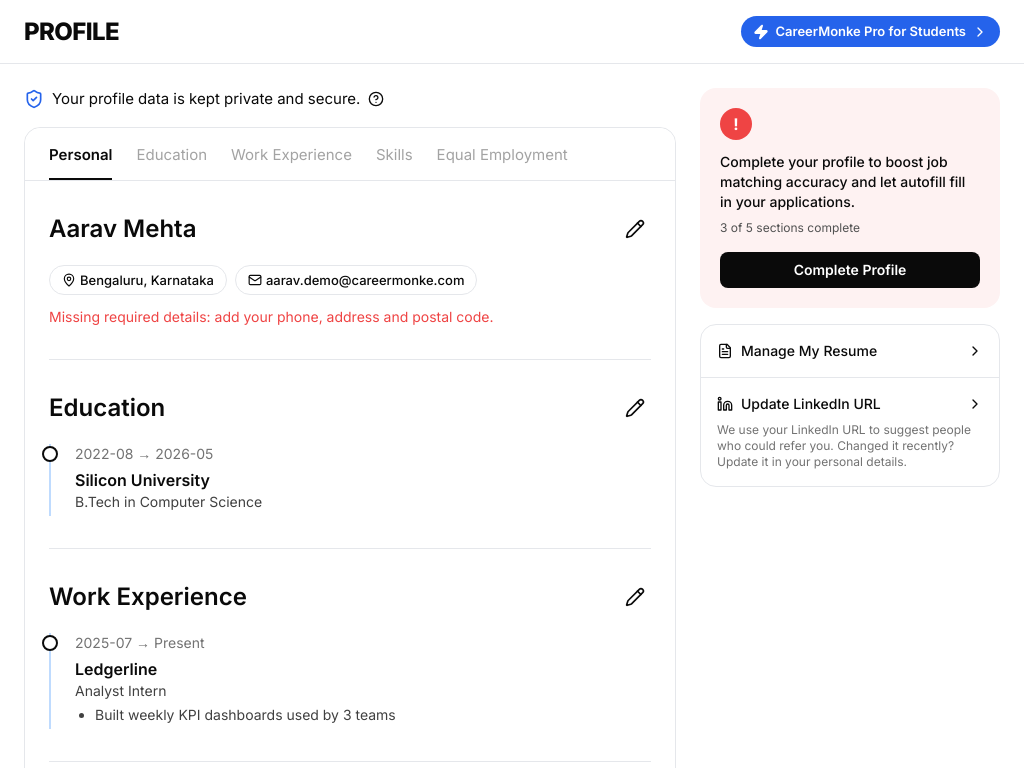
Profile › closing without changes does not ask
Click the button named "Edit Education" at (635, 408), box x1=619 y1=392 x2=651 y2=424
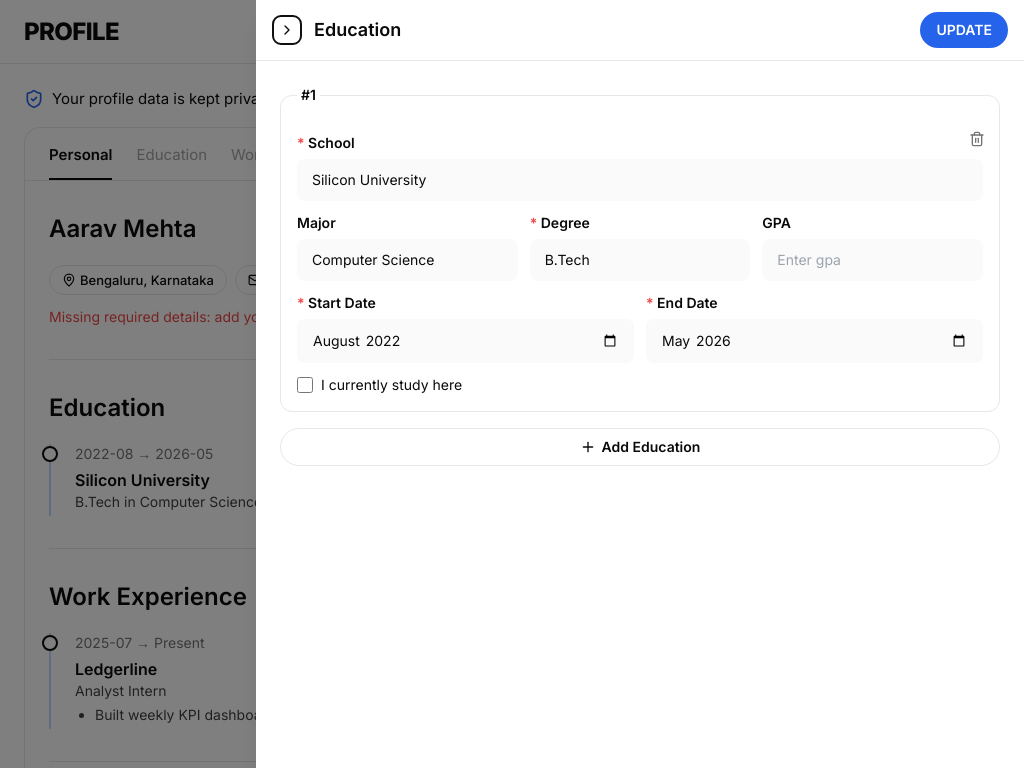
Press Escape
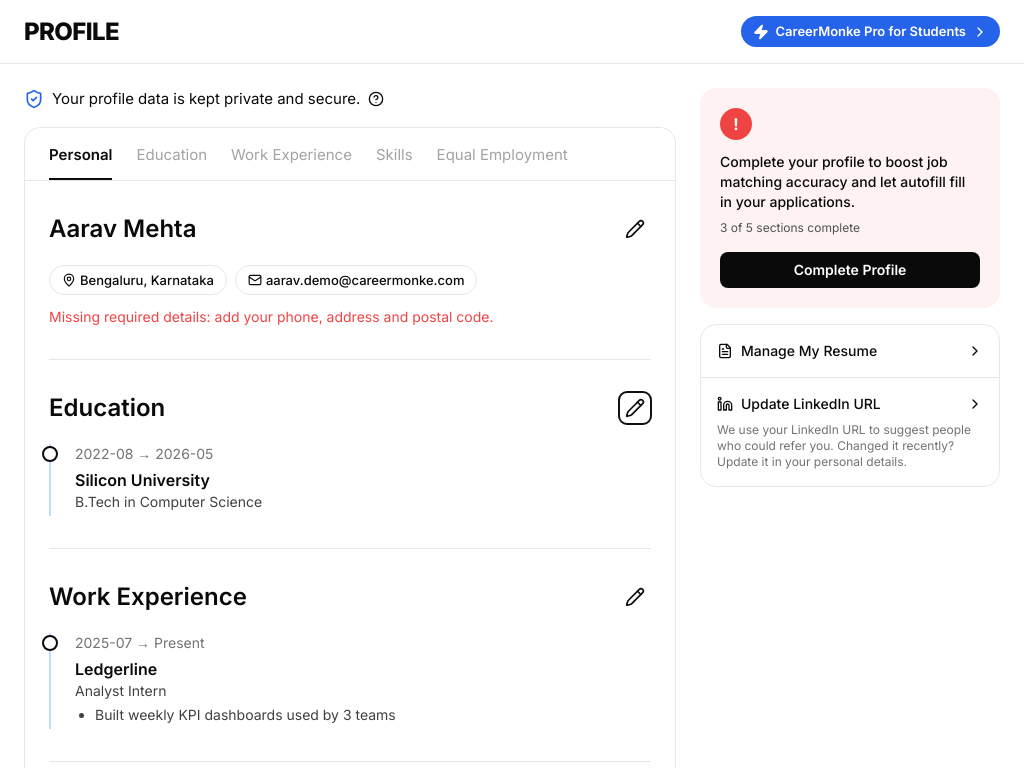
Now the dialog is gone
